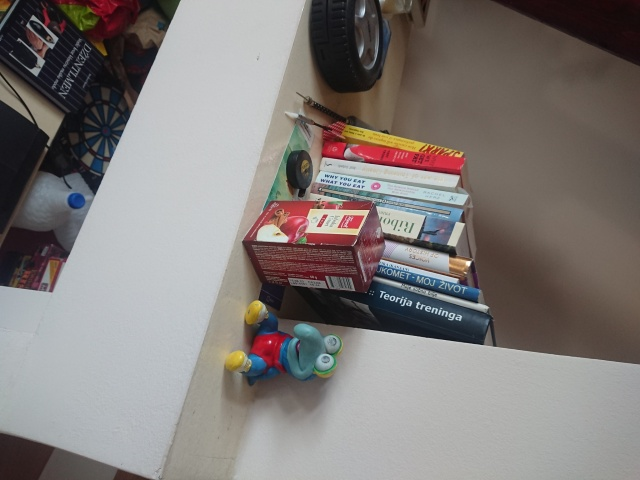Franck Apple Cinnamon Tea 60g: (239, 198, 386, 293)
